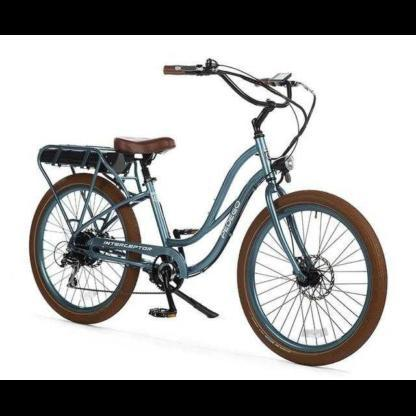Bicycle: (16, 37, 395, 372)
